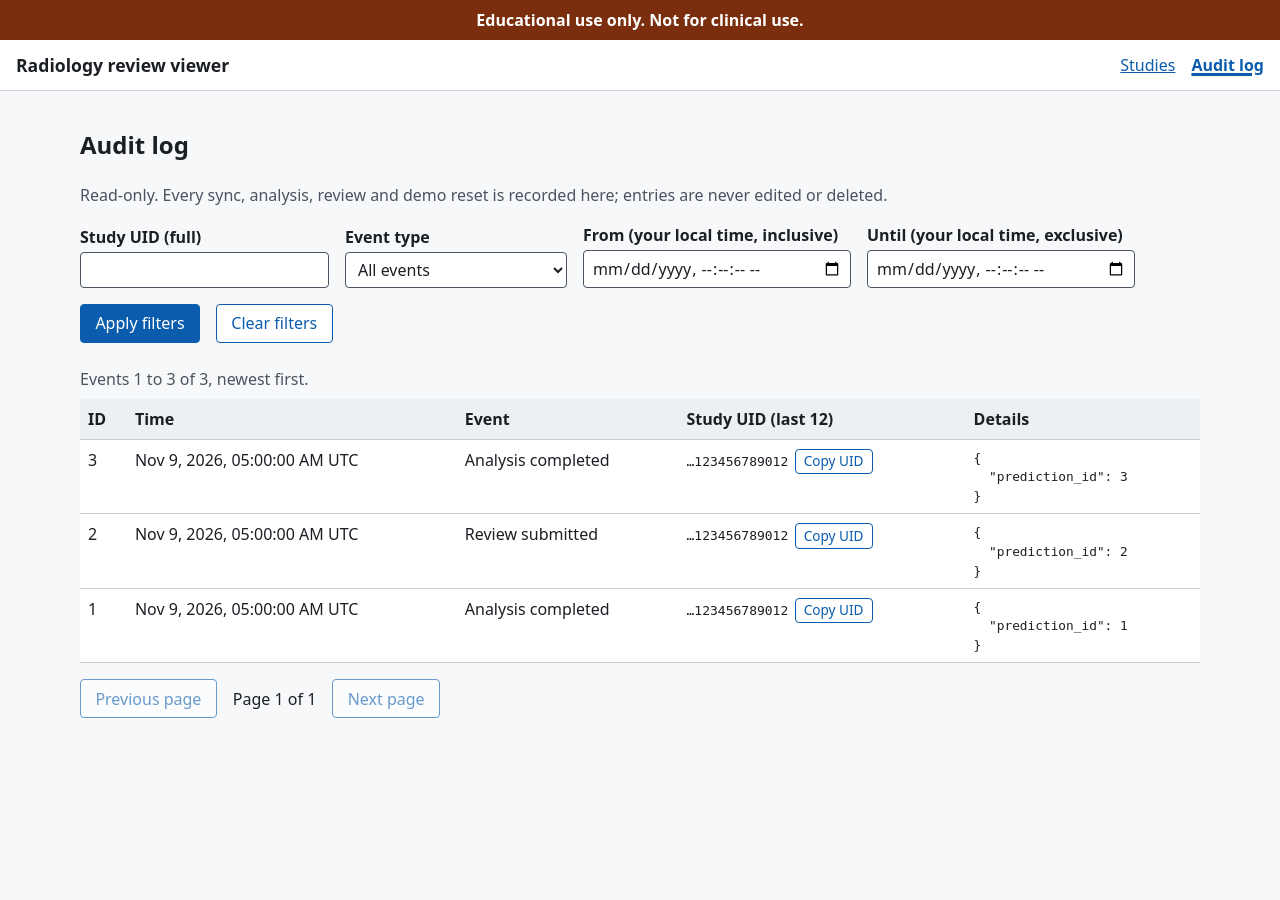
Test: audit page › refuses an invalid UID or a reversed time range without sending a request
Expected: the text "Events 1 to 3 of 3, newest first." is shown, top-left (80, 368), bottom-right (308, 390)
Type "1.2.abc" into the field labelled "Study UID (full)" at (204, 270), box top-left (80, 252), bottom-right (329, 288)
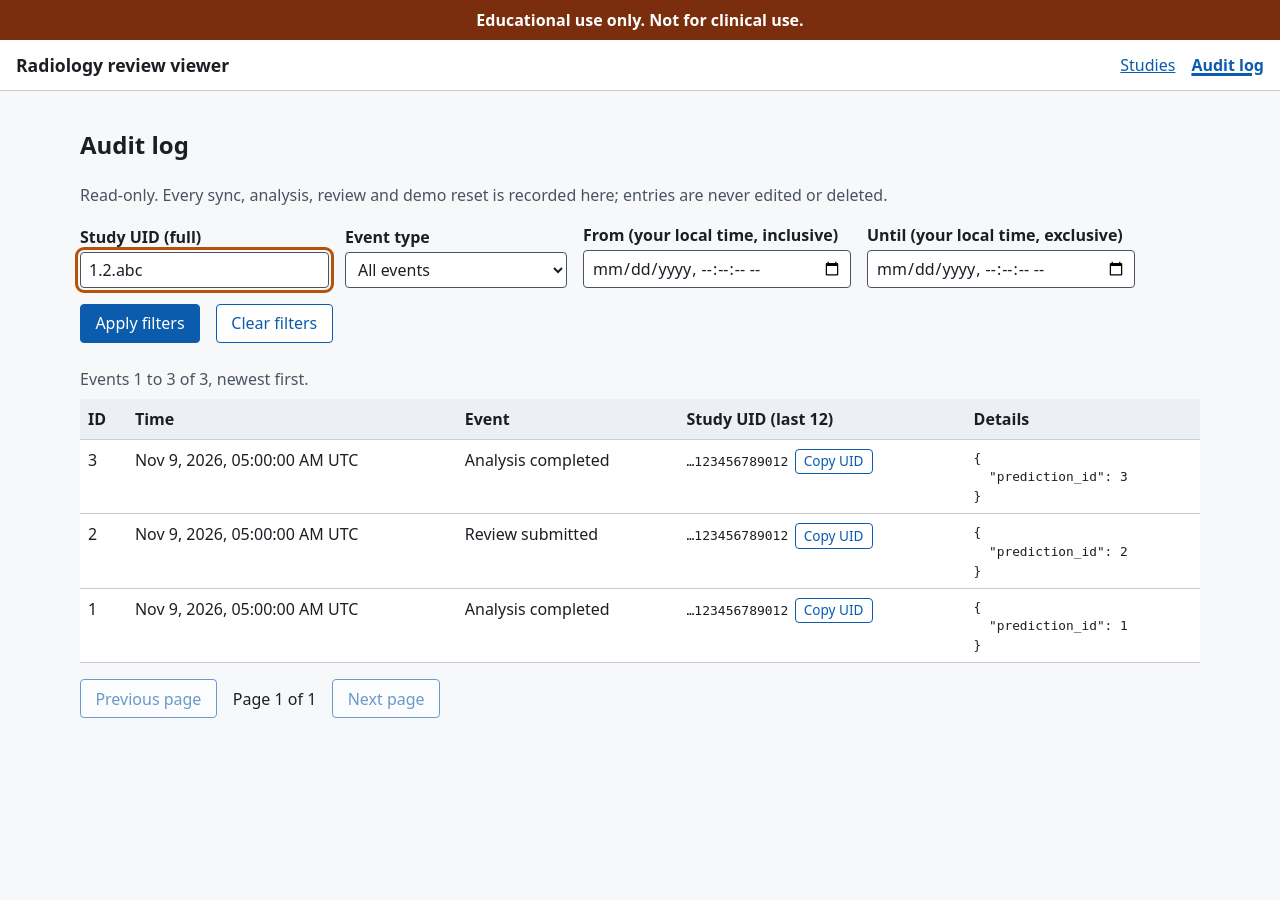
Type "2026-11-10T00:00" into the field labelled "From (your local time, inclusive)" at (717, 269), box top-left (583, 250), bottom-right (851, 288)
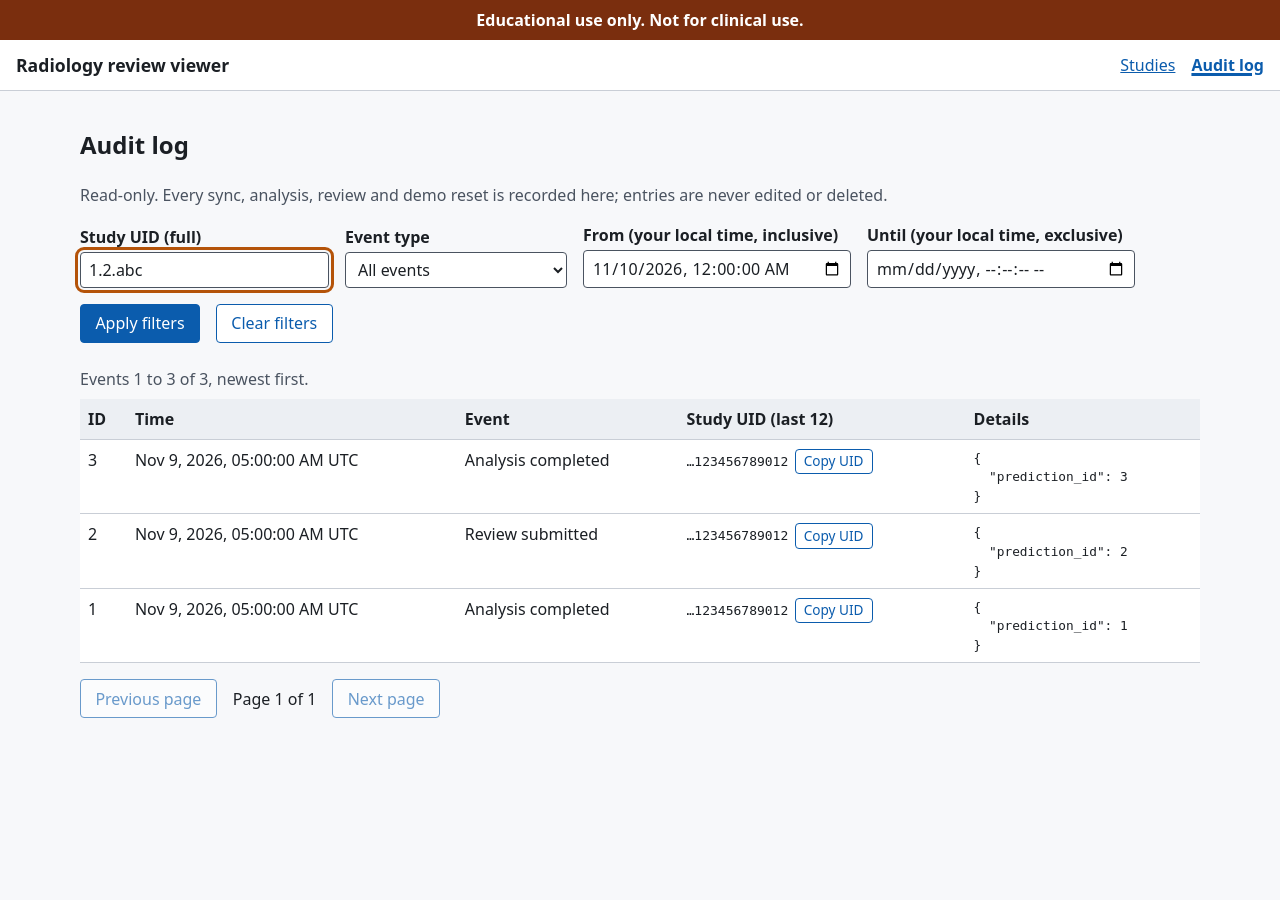
Type "2026-11-09T00:00" into the field labelled "Until (your local time, exclusive)" at (1001, 269), box top-left (867, 250), bottom-right (1135, 288)
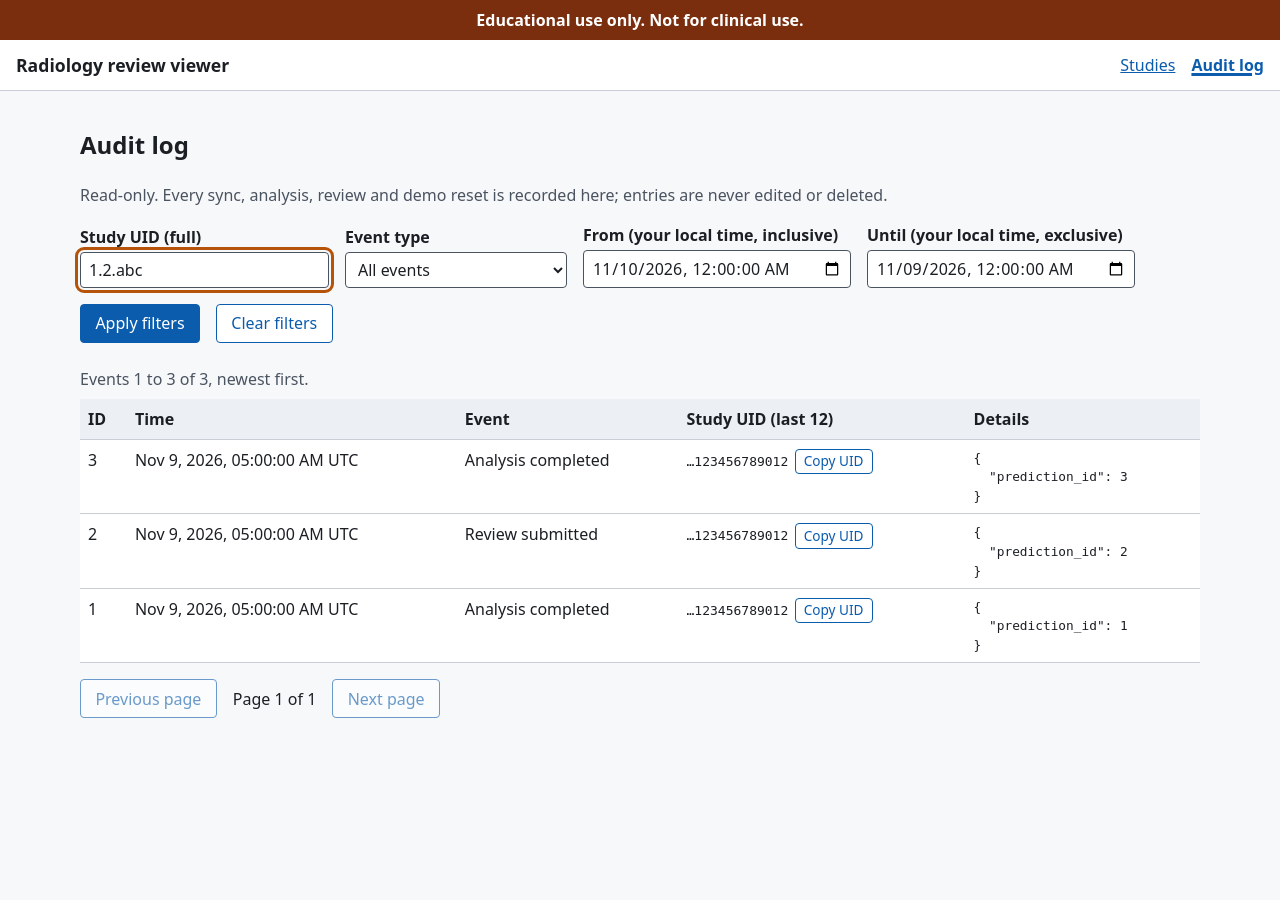
Click the button "Apply filters" at (140, 323), box top-left (80, 304), bottom-right (200, 343)
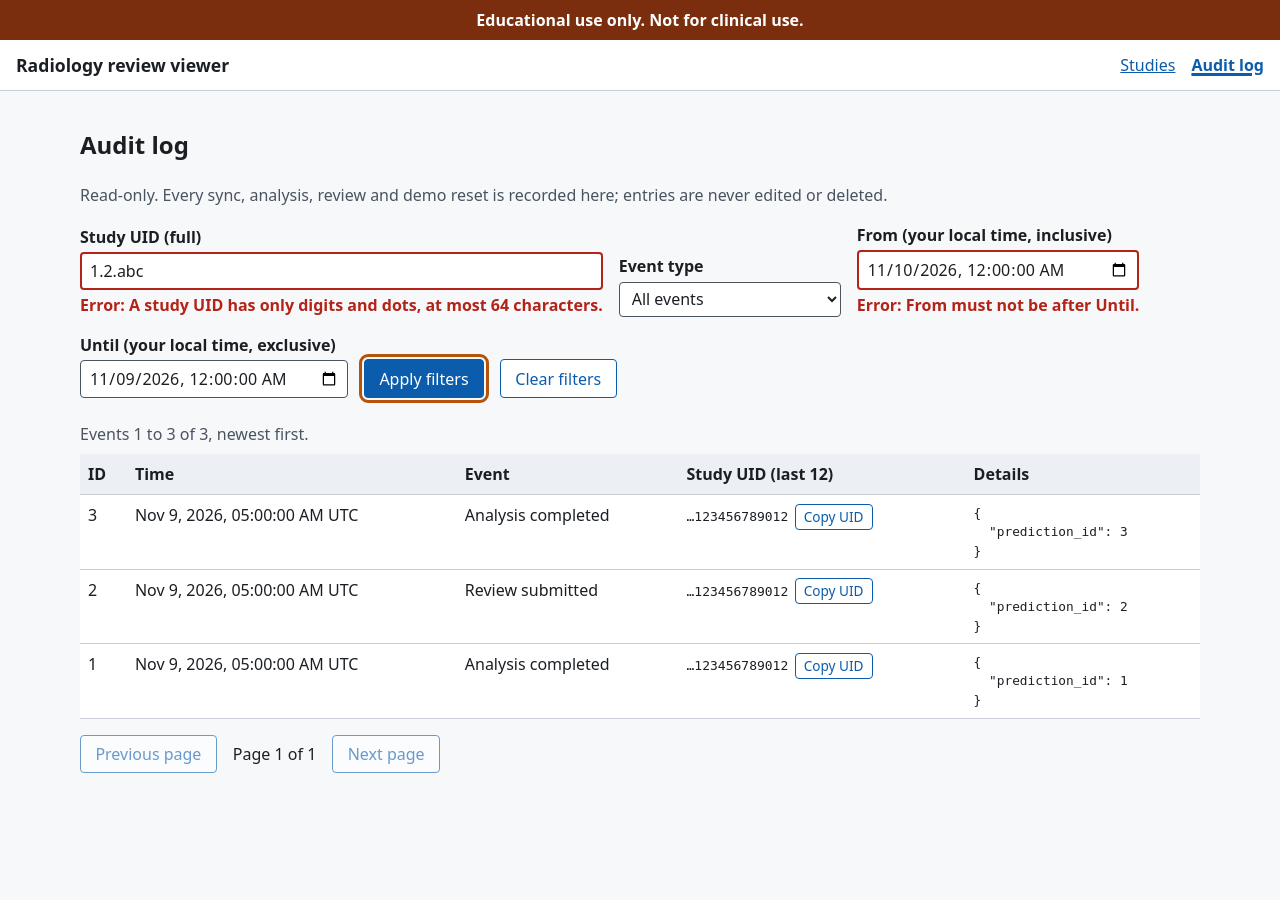
Now the text "Error: A study UID has only digits and dots" is shown, box top-left (80, 293), bottom-right (603, 317)
Now the text "Error: From must not be after Until." is shown, box top-left (857, 293), bottom-right (1139, 317)
